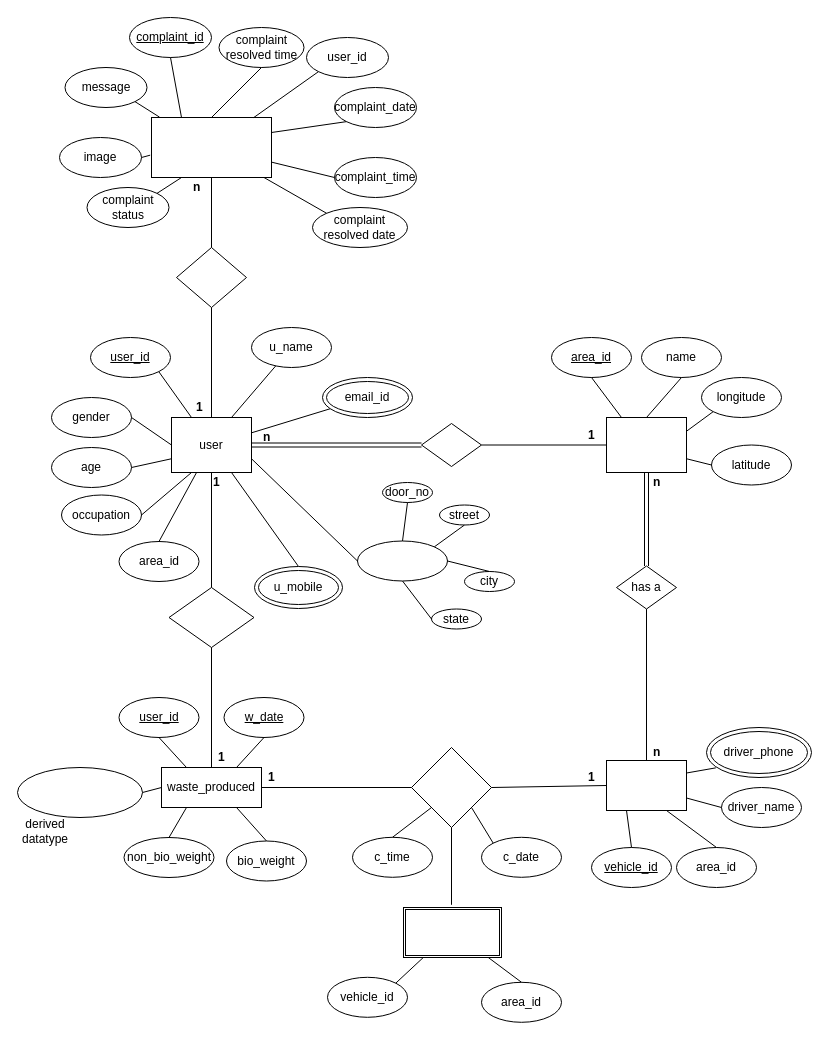
This 829x1040 diagram has some shape labels left out. The centre of each missing label's shape, as x and y in pixels:
"address" goes at point (402, 560).
"area" goes at point (646, 444).
"collects" goes at point (451, 787).
"complaint" goes at point (211, 147).
"generates wastes" goes at point (211, 617).
"registers" goes at point (211, 277).
"resides" goes at point (451, 444).
"total waste produced per_day" goes at point (79, 792).
"vehicle" goes at point (646, 785).
"waste_collection" goes at point (452, 932).
